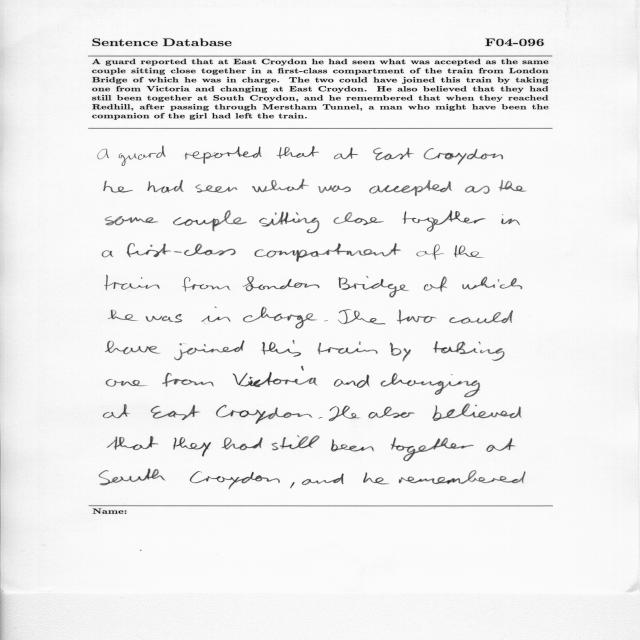word: (254, 243, 401, 262), (381, 373, 480, 397), (391, 438, 473, 462), (216, 405, 312, 424), (233, 366, 318, 387), (399, 470, 526, 484), (402, 211, 486, 232), (190, 471, 280, 489), (243, 307, 316, 329), (173, 211, 247, 232), (339, 276, 409, 298), (127, 244, 236, 258), (433, 404, 522, 421), (434, 341, 505, 361), (175, 341, 245, 361), (185, 146, 262, 164), (424, 148, 503, 165), (369, 180, 452, 196), (260, 212, 320, 234), (243, 277, 320, 292), (99, 469, 165, 485), (119, 146, 166, 166), (449, 310, 513, 324), (105, 276, 160, 291), (462, 277, 522, 290), (317, 342, 377, 355), (252, 179, 309, 192), (151, 405, 200, 420), (162, 373, 214, 387), (107, 436, 159, 450), (174, 438, 212, 457), (338, 310, 385, 325), (106, 341, 160, 354), (182, 277, 231, 291), (261, 340, 301, 357), (272, 436, 320, 450), (333, 212, 384, 225), (397, 309, 437, 324), (368, 407, 415, 419), (276, 146, 319, 159), (331, 439, 374, 452), (221, 438, 263, 451), (373, 148, 414, 160), (147, 180, 184, 193), (106, 216, 159, 225), (334, 375, 370, 388), (329, 406, 360, 421), (302, 474, 344, 485), (416, 244, 444, 260), (201, 307, 230, 322), (487, 438, 516, 452), (390, 343, 411, 362), (454, 245, 484, 258), (195, 184, 237, 193), (103, 404, 130, 418), (103, 181, 133, 193), (424, 277, 447, 292), (108, 310, 138, 321), (499, 180, 526, 192), (363, 473, 389, 485), (146, 314, 182, 322), (106, 379, 147, 386), (334, 148, 358, 159), (318, 186, 351, 194), (501, 215, 520, 226), (465, 186, 490, 194), (98, 149, 109, 159), (103, 251, 114, 258), (290, 482, 295, 488), (319, 417, 323, 419), (324, 320, 328, 321)
